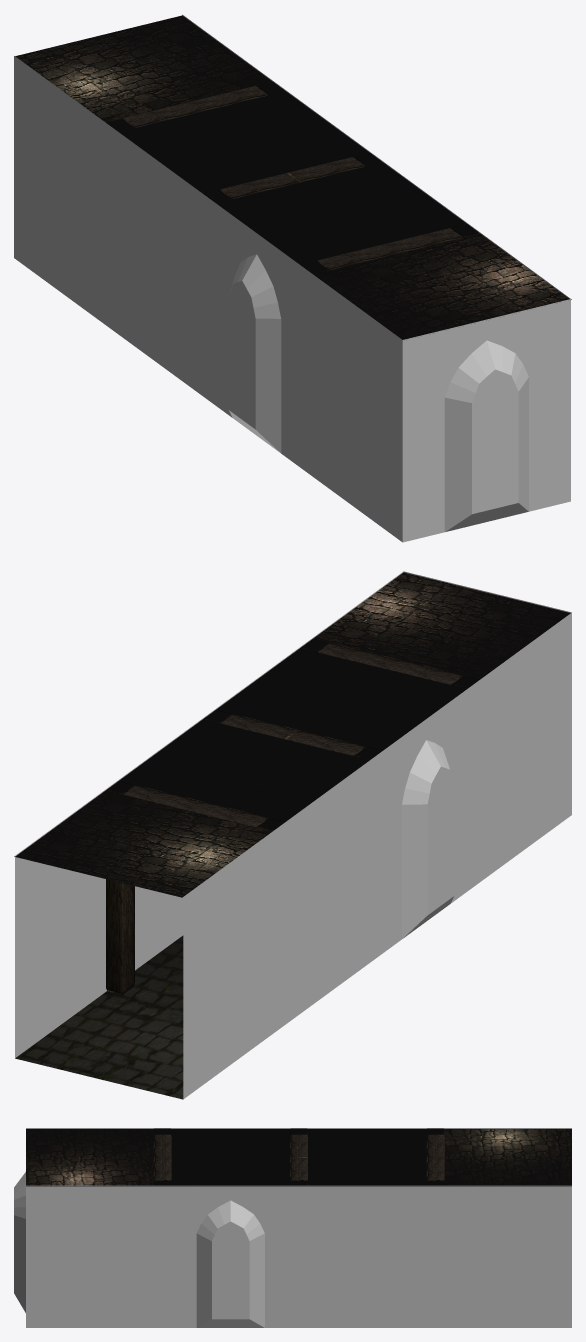
Rendered from corridor01.fbx.
3 renders of one model, top to bottom at view 1: azimuth 30°, elevation 25°; view 2: azimuth 150°, elevation 25°; view 3: azimuth 270°, elevation 25°, orthographic. The views are drawn at different scales.
Parts seen in each view (by area): view 1: castle_wall01, castle_ceiling01, castle_beam01; view 2: castle_wall01, castle_ceiling01, castle_floor01, castle_beam01; view 3: castle_wall01, castle_ceiling01, castle_beam01.
Boxes of the visible parts, bbox=[...] form: castle_wall01: bbox=[14, 14, 570, 542]; castle_ceiling01: bbox=[15, 15, 571, 339]; castle_beam01: bbox=[106, 82, 478, 273]; castle_wall01: bbox=[15, 571, 571, 1099]; castle_ceiling01: bbox=[14, 572, 570, 897]; castle_floor01: bbox=[15, 935, 183, 1099]; castle_beam01: bbox=[106, 639, 479, 994]; castle_wall01: bbox=[14, 1128, 571, 1327]; castle_ceiling01: bbox=[26, 1129, 571, 1186]; castle_beam01: bbox=[153, 1128, 444, 1185].
Bounding box in the file's own units: 235 × 230 × 818.
